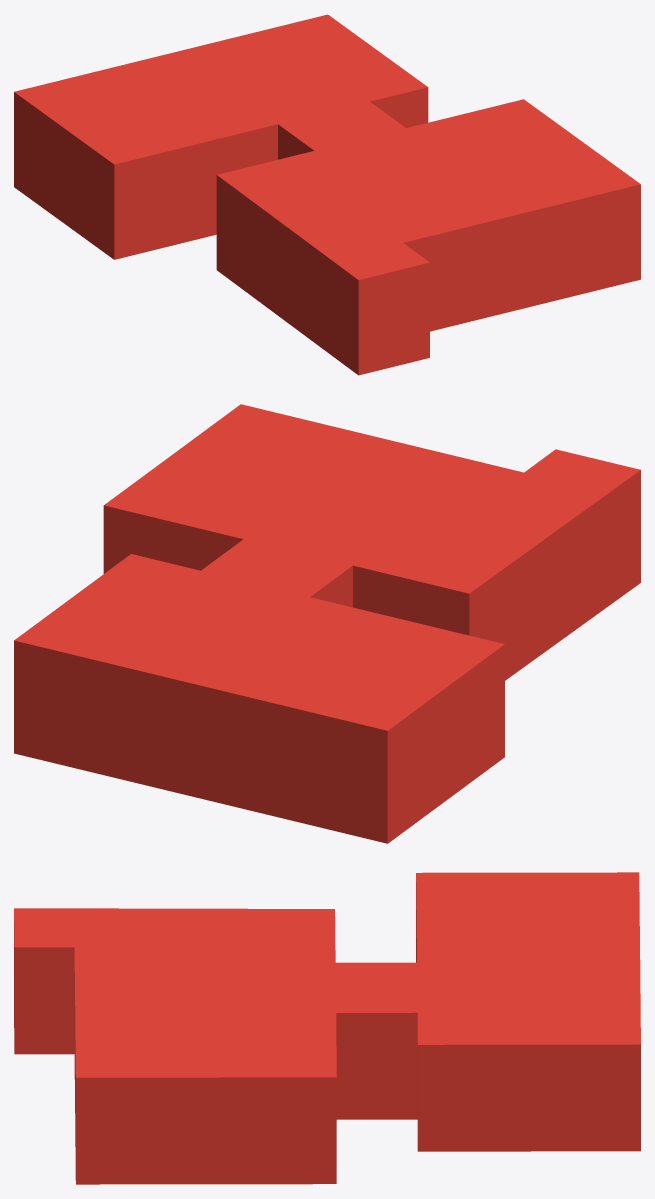
The model's file is barao_b.glb.
3 renders of one model, top to bottom at view 1: azimuth 30°, elevation 25°; view 2: azimuth 150°, elevation 25°; view 3: azimuth 270°, elevation 25°, orthographic. The views are drawn at different scales.
Visible parts, largest first — view 1: barao; view 2: barao; view 3: barao.
Part boxes in pixels (x1,y1,x2,y2): barao: [14, 14, 640, 375]; barao: [14, 404, 640, 843]; barao: [14, 872, 640, 1184].
Bounding box in the file's own units: 27.47 × 6.67 × 35.47.
